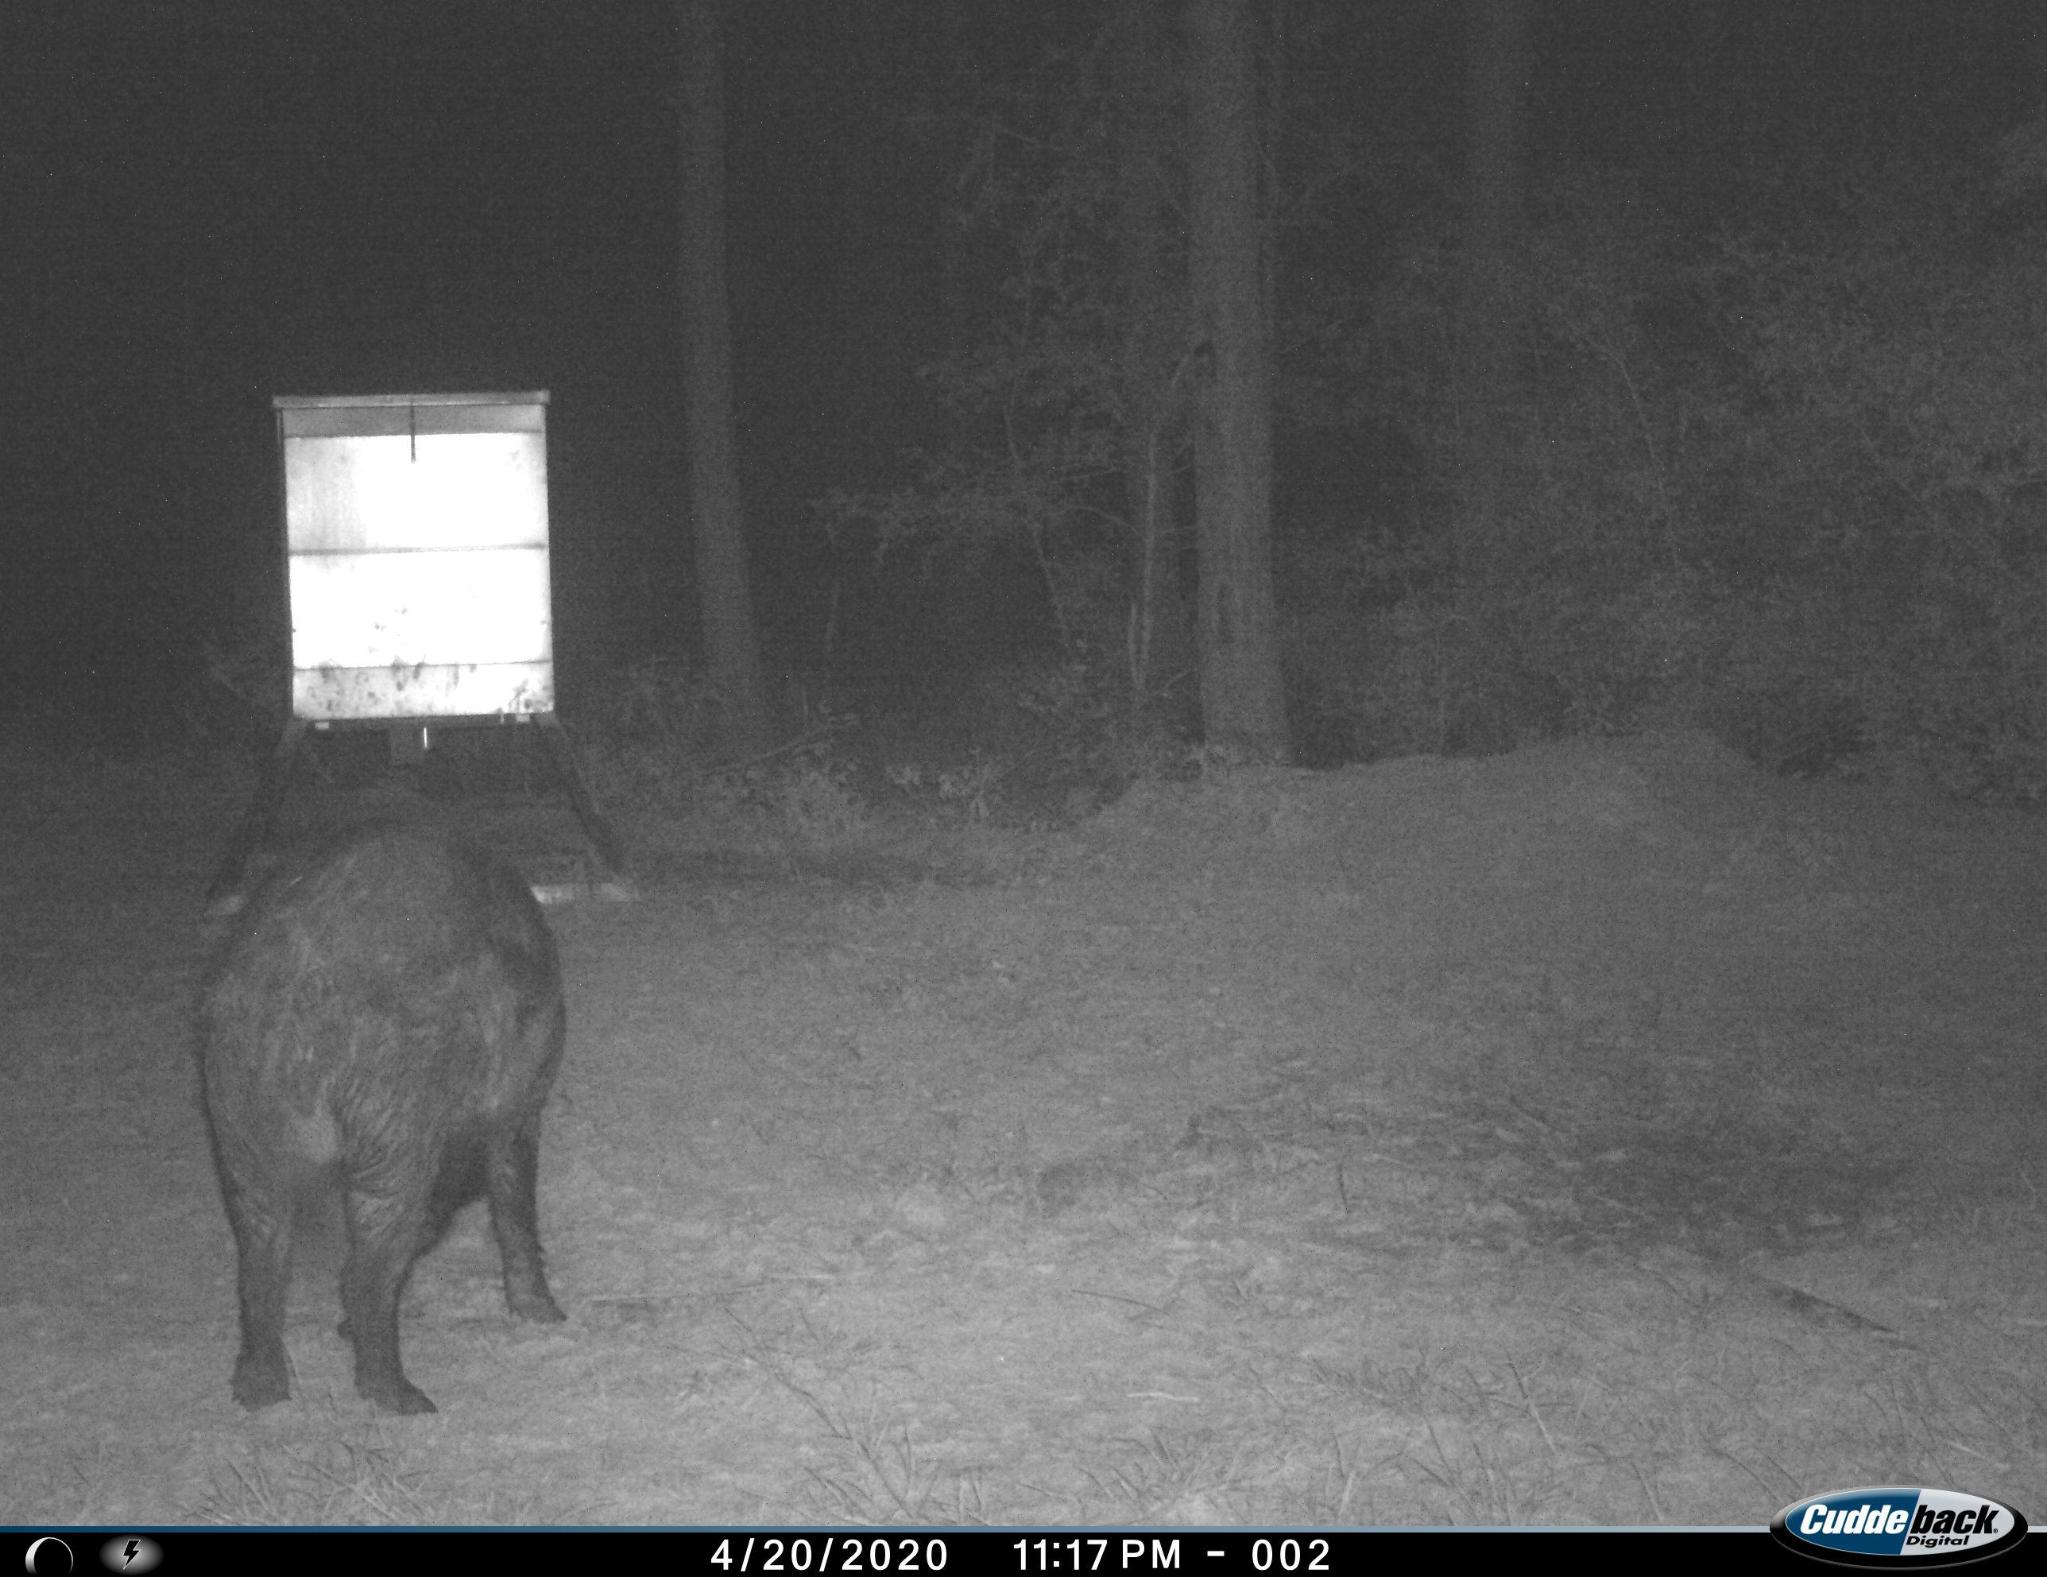Hog: (172, 787, 591, 1433)
